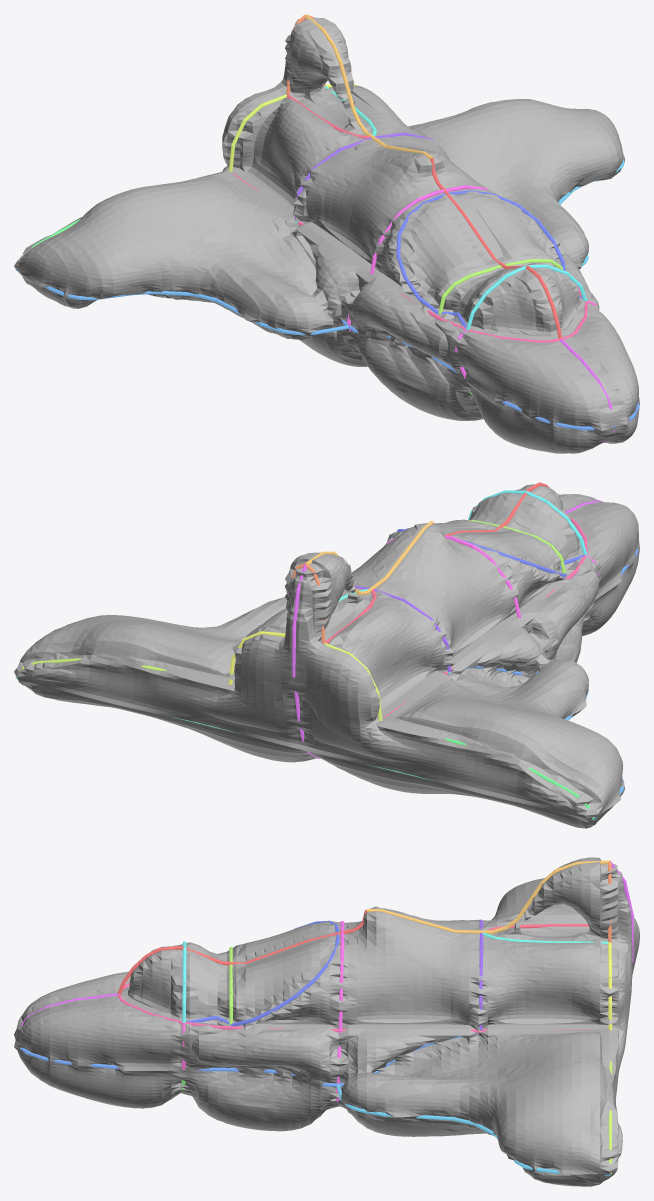
Rendered from t2f_fighter.gltf.
3 views of the same model, one above another, from view 1: azimuth 30°, elevation 25°; view 2: azimuth 150°, elevation 25°; view 3: azimuth 270°, elevation 25° (orthographic). The views are drawn at different scales.
Size of the model in its own units: 0.7037 by 0.2933 by 0.6779.
